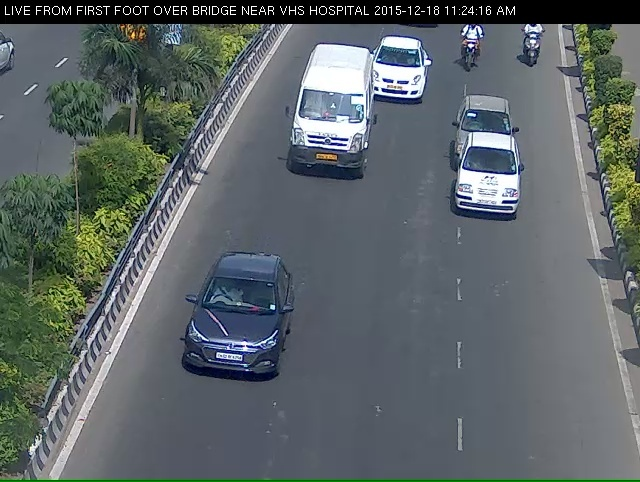Bus: (280, 51, 369, 198)
Car: (169, 267, 286, 416), (457, 143, 528, 237), (445, 103, 516, 171), (366, 41, 427, 117)
Person: (519, 22, 553, 78), (456, 23, 488, 82)
